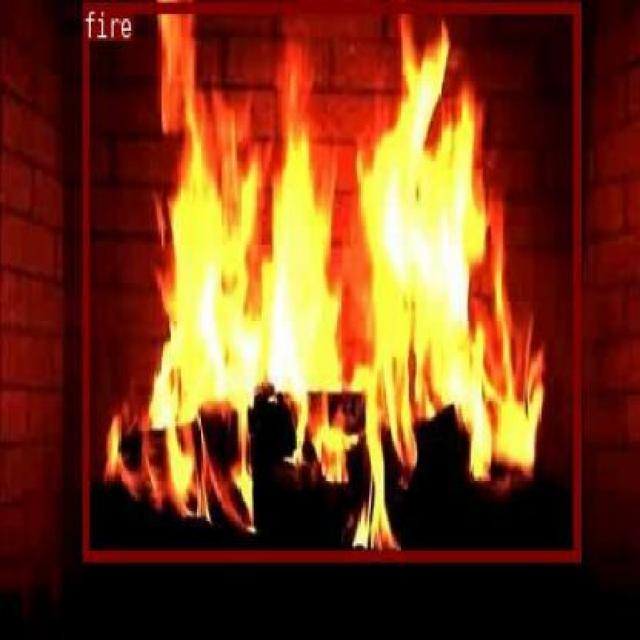Fire: (81, 0, 578, 558)
